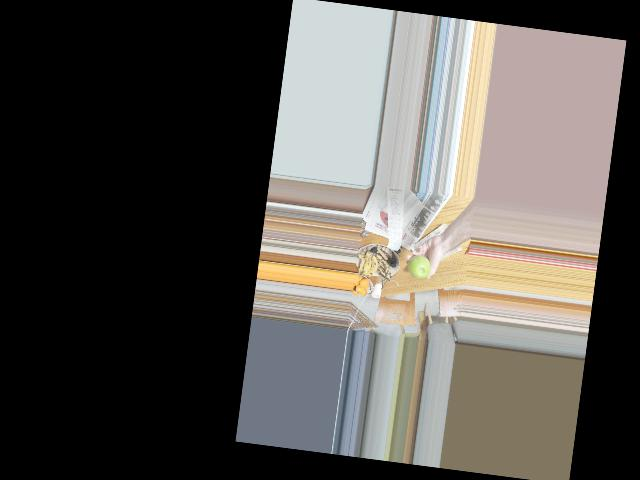apple: (406, 253, 432, 280)
